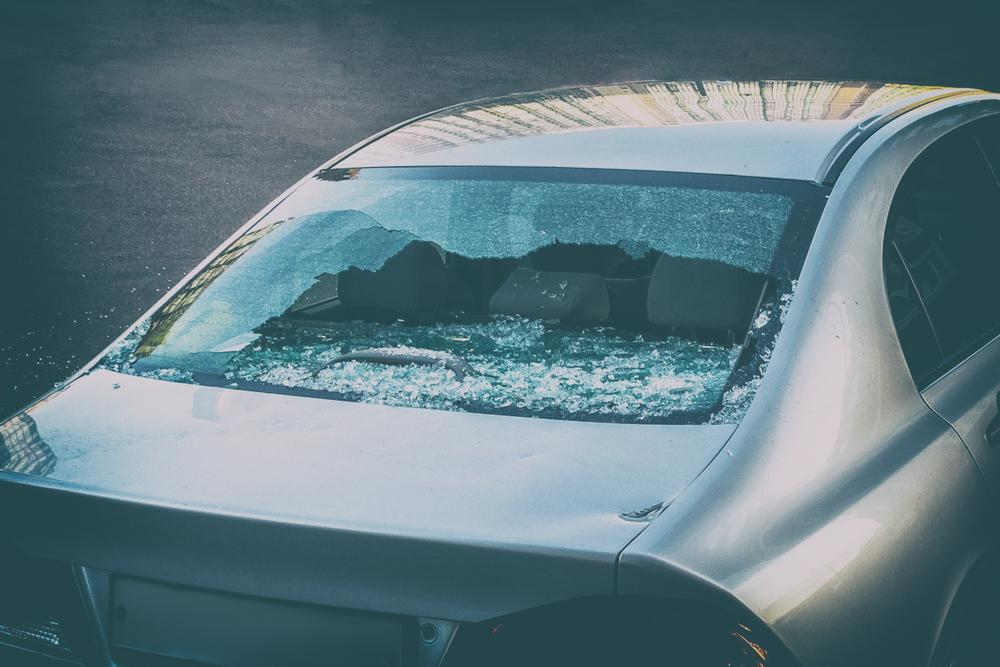dent: (552, 478, 679, 538)
glass shatter: (96, 167, 830, 424)
